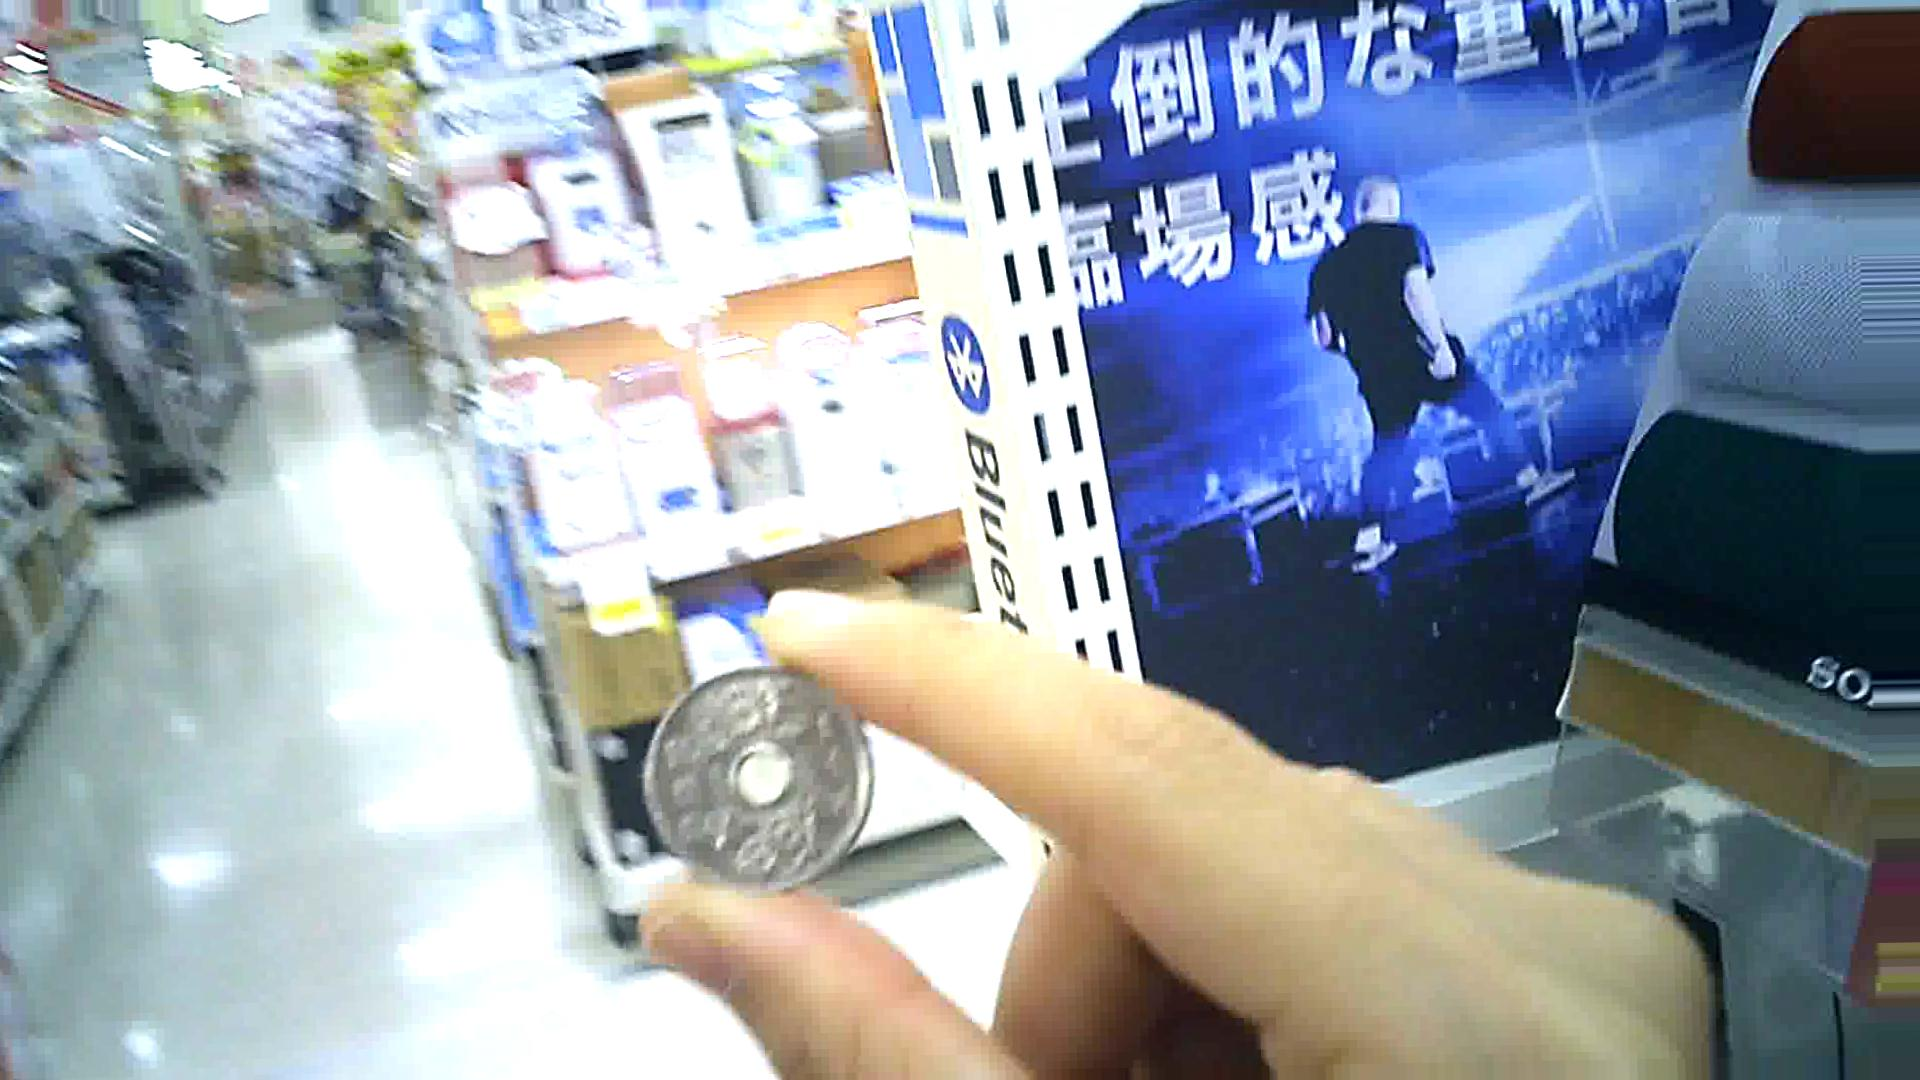50 Yen: (630, 673, 876, 909)
